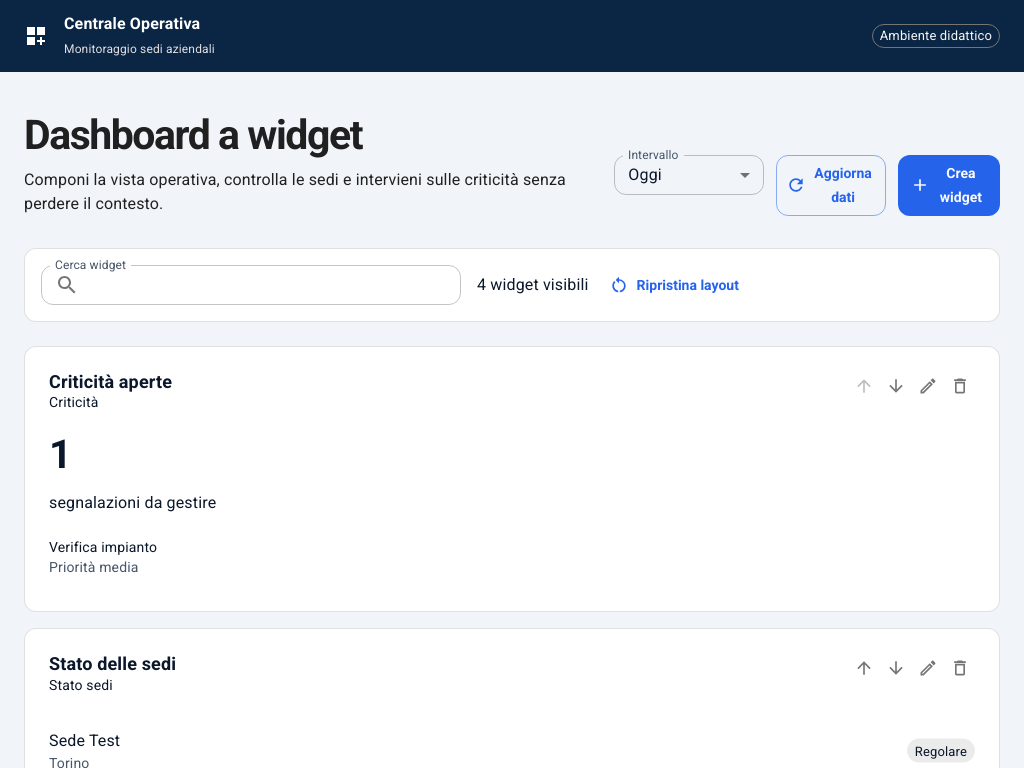
Scenario: Widget dashboard soluzione › ripristina il widget precedente dopo un errore di salvataggio
Expected: the heading "Criticità aperte" is shown, [49,371,172,392]
Click the button named "Modifica Criticità aperte".
click(928, 386)  # box [913,371,943,401]
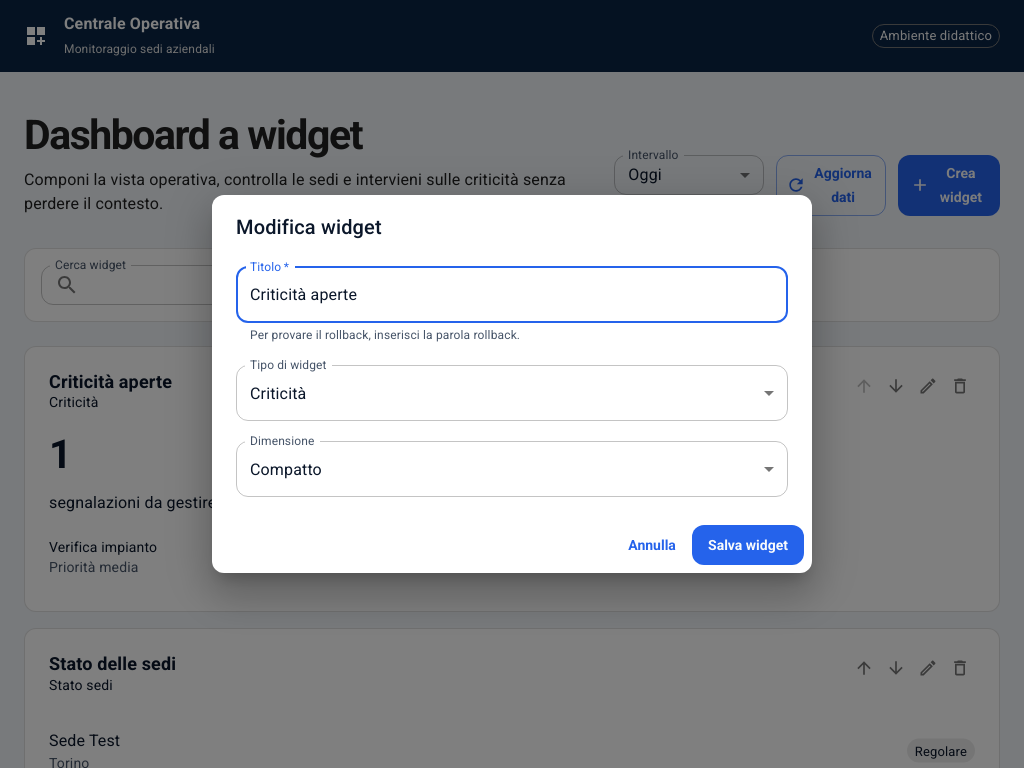
Replace the text in the field labelled "Titolo" with "Titolo temporaneo" at (512, 294), box [236,266,788,322]
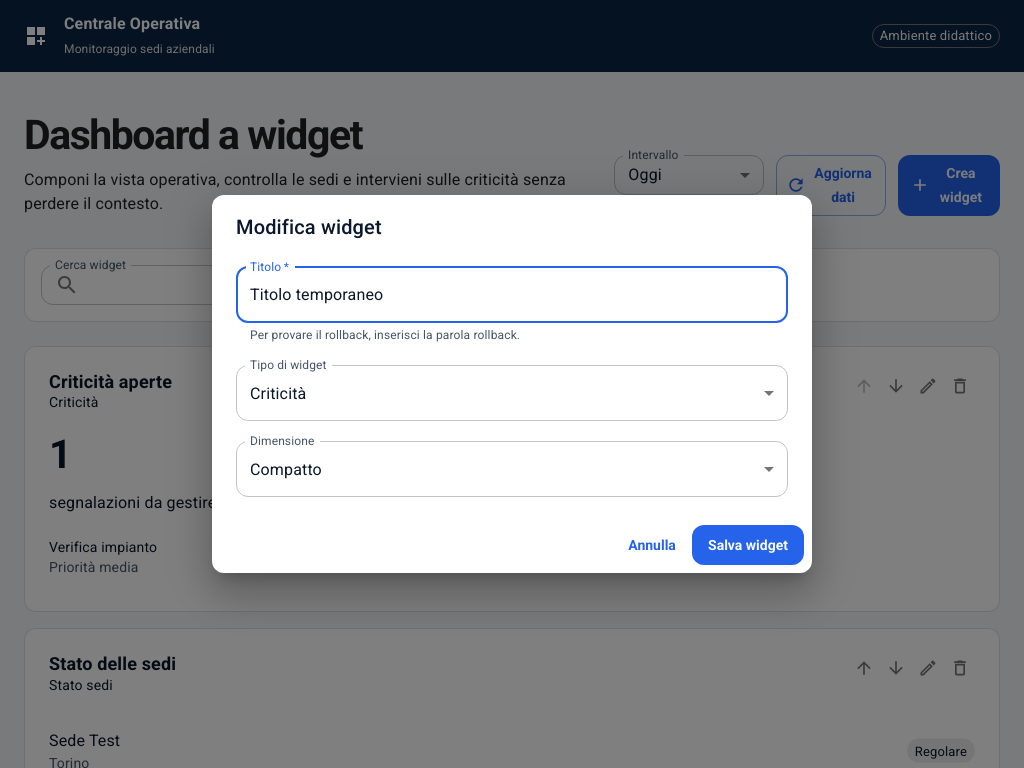
Click the button "Salva widget".
click(748, 546)  # box [692,526,804,566]
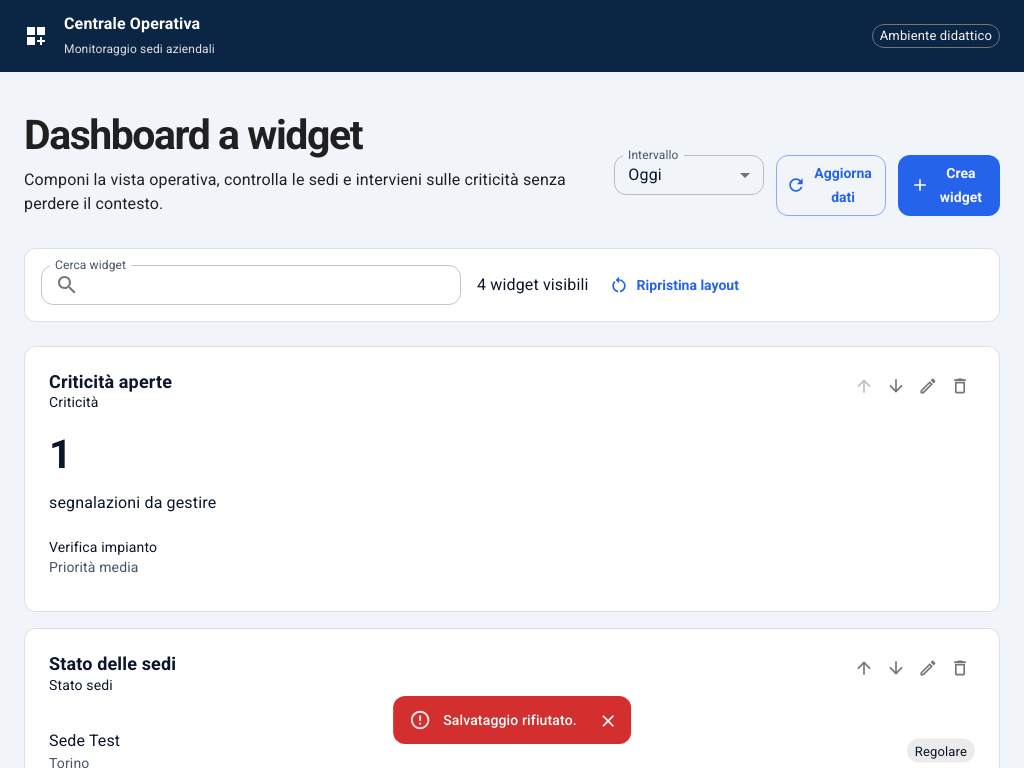
Expected: the heading "Criticità aperte" is shown, [49,371,172,392]
Expected: the text "Salvataggio rifiutato." is shown, [443,712,577,728]
